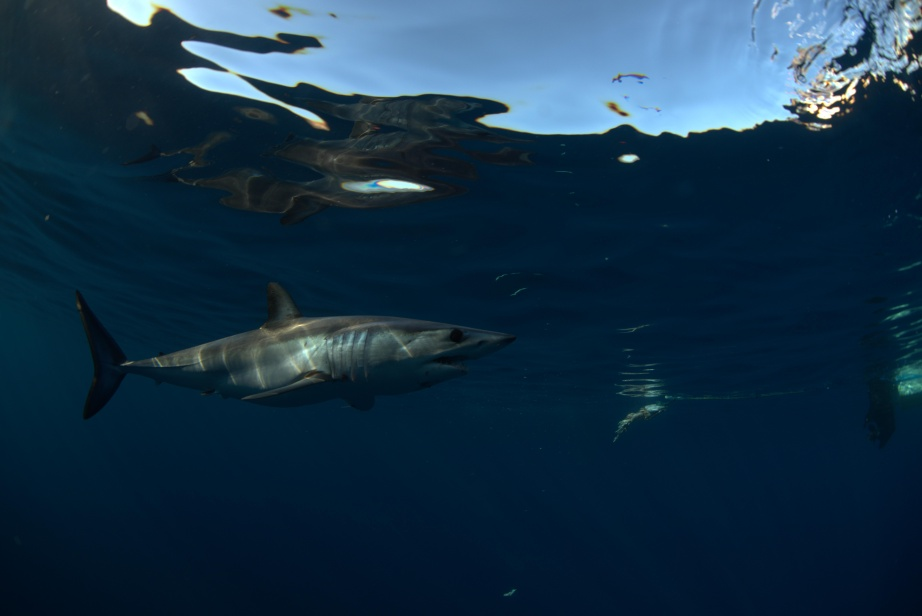Mako: (51, 273, 532, 439)
